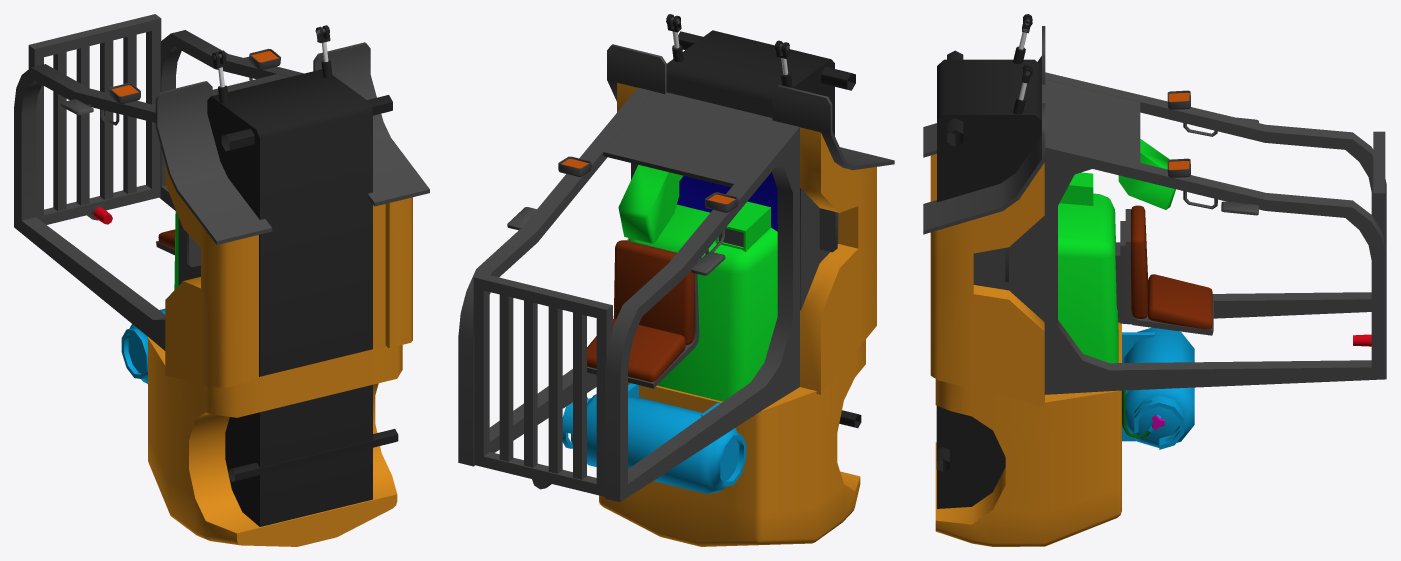
The model's file is Forklift_01A.fbx.
3 renders of one model, left to right at view 1: azimuth 30°, elevation 25°; view 2: azimuth 150°, elevation 25°; view 3: azimuth 270°, elevation 25°, orthographic. The views are drawn at different scales.
Visible parts, largest first — view 1: ForkliftBodywork_low; view 2: ForkliftBodywork_low; view 3: ForkliftBodywork_low.
Part boxes in pixels (x1,y1,x2,y2): ForkliftBodywork_low: (14,14,429,546); ForkliftBodywork_low: (458,14,894,546); ForkliftBodywork_low: (923,14,1386,546).
Bounding box in the file's own units: 1.32 × 2.82 × 2.48.
